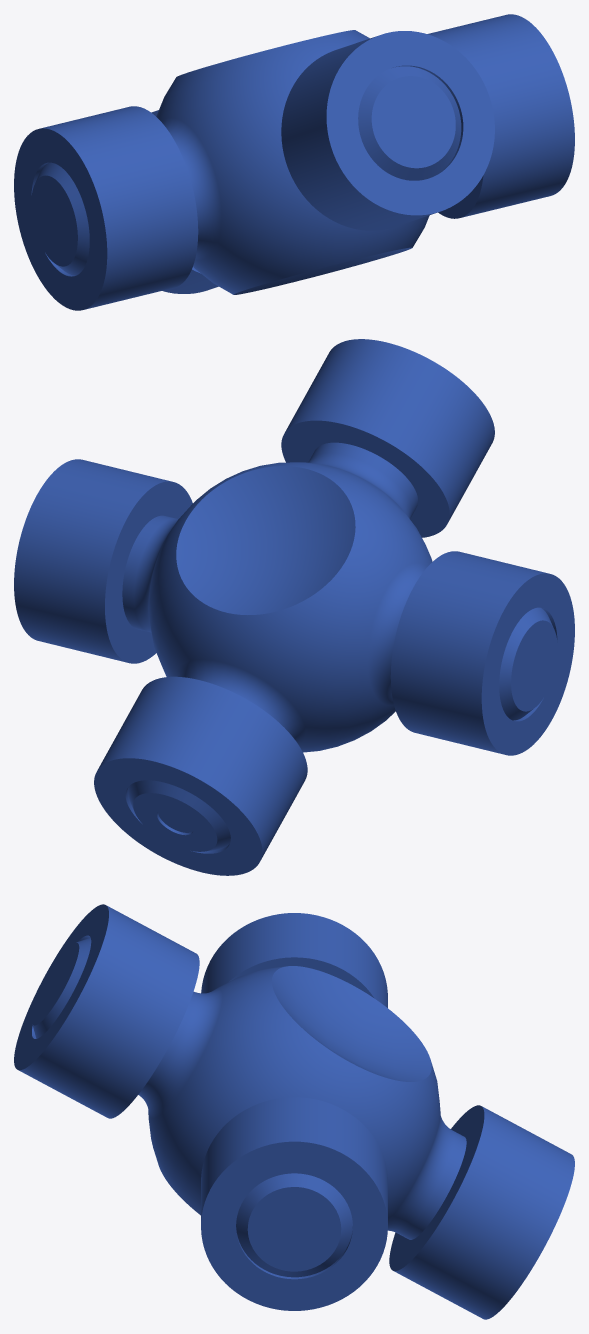
The model's file is croisillion_bas6.dae.
The picture shows the model from 3 angles, top to bottom: view 1: azimuth 30°, elevation 25°; view 2: azimuth 150°, elevation 25°; view 3: azimuth 270°, elevation 25°; orthographic projection.
Visible parts, largest first — view 1: C0001_0001-2_Croisillon; view 2: C0001_0001-2_Croisillon; view 3: C0001_0001-2_Croisillon.
Boxes of the visible parts, x1,y1,x2,y2 form: C0001_0001-2_Croisillon: [14, 14, 574, 310]; C0001_0001-2_Croisillon: [14, 339, 574, 875]; C0001_0001-2_Croisillon: [14, 904, 574, 1319].
Bounding box in the file's own units: 0.095 × 0.096 × 0.0746.
